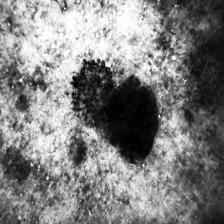Benign Marking or Mole: (70, 58, 159, 163)
